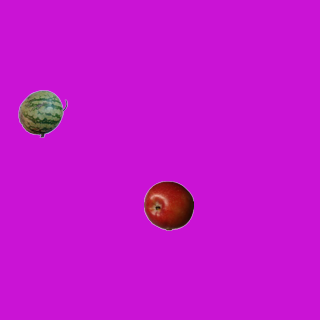Apple Braeburn: (143, 180, 193, 230)
Watermelon: (17, 88, 67, 138)
